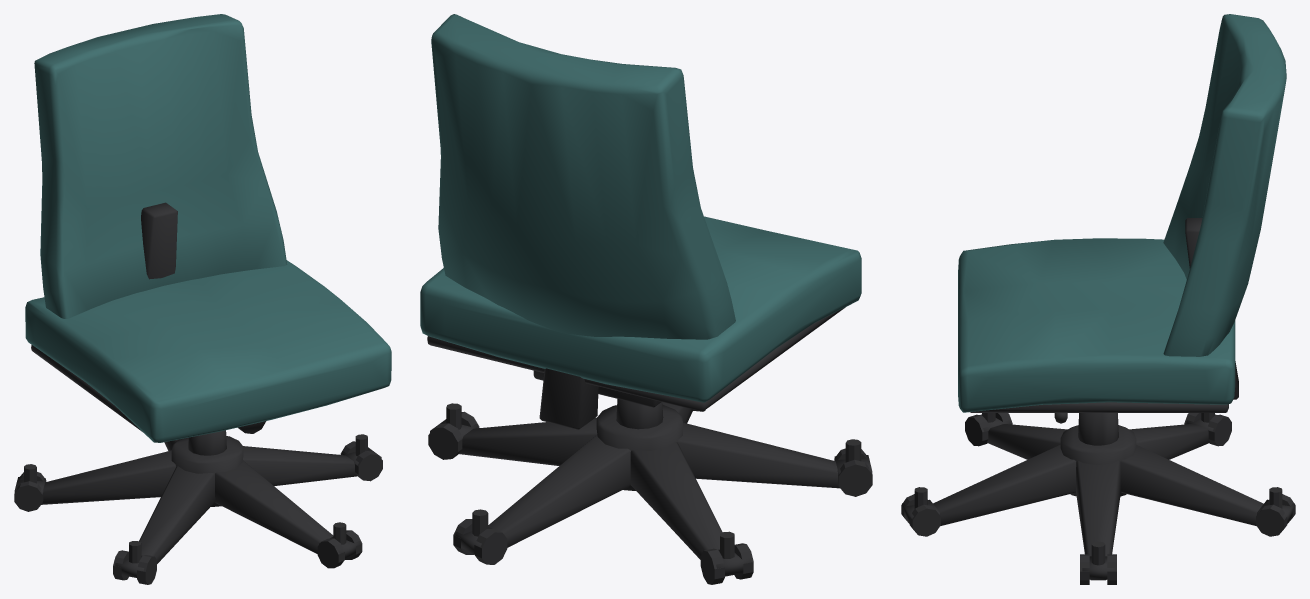
Rendered from task-chair-race-low.glb.
3 views of the same model, side by side, from view 1: azimuth 30°, elevation 25°; view 2: azimuth 150°, elevation 25°; view 3: azimuth 270°, elevation 25° (orthographic). The views are drawn at different scales.
Parts seen in each view (by area): view 1: TaskChair.001; view 2: TaskChair.001; view 3: TaskChair.001.
Part boxes in pixels (box(x1,y1,x2,y2)): TaskChair.001: box(14, 14, 391, 584); TaskChair.001: box(420, 14, 872, 584); TaskChair.001: box(901, 14, 1295, 584).
Bounding box in the file's own units: 0.6034 × 0.7878 × 0.6344.
